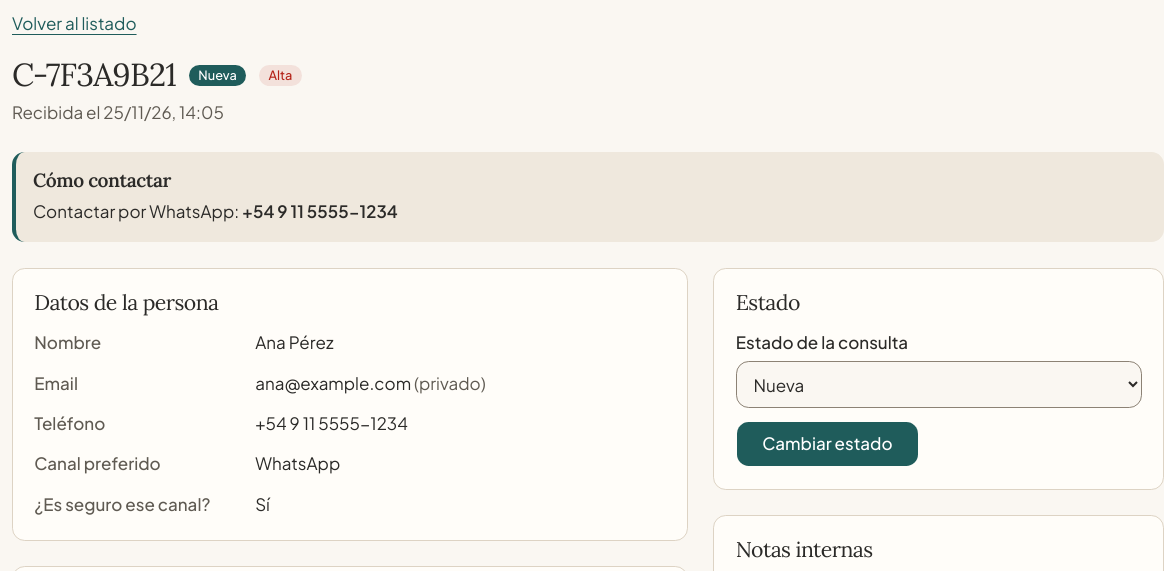
Test case: StatusForm › announces an error
This screenshot has width=1164, height=571.
What coordinates should you click on to do the following:
click the button "Cambiar estado"
I would click on:
 (827, 444)
Its box is [736,421,919,468].
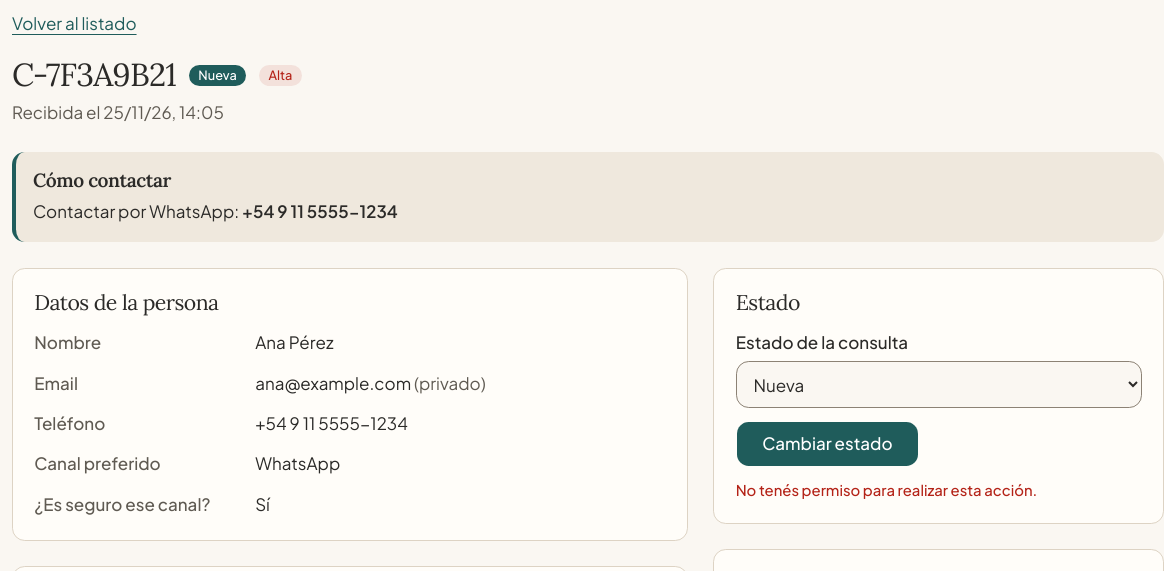
Expected: the message shows "No tenés permiso", [736,481,1037,499]
